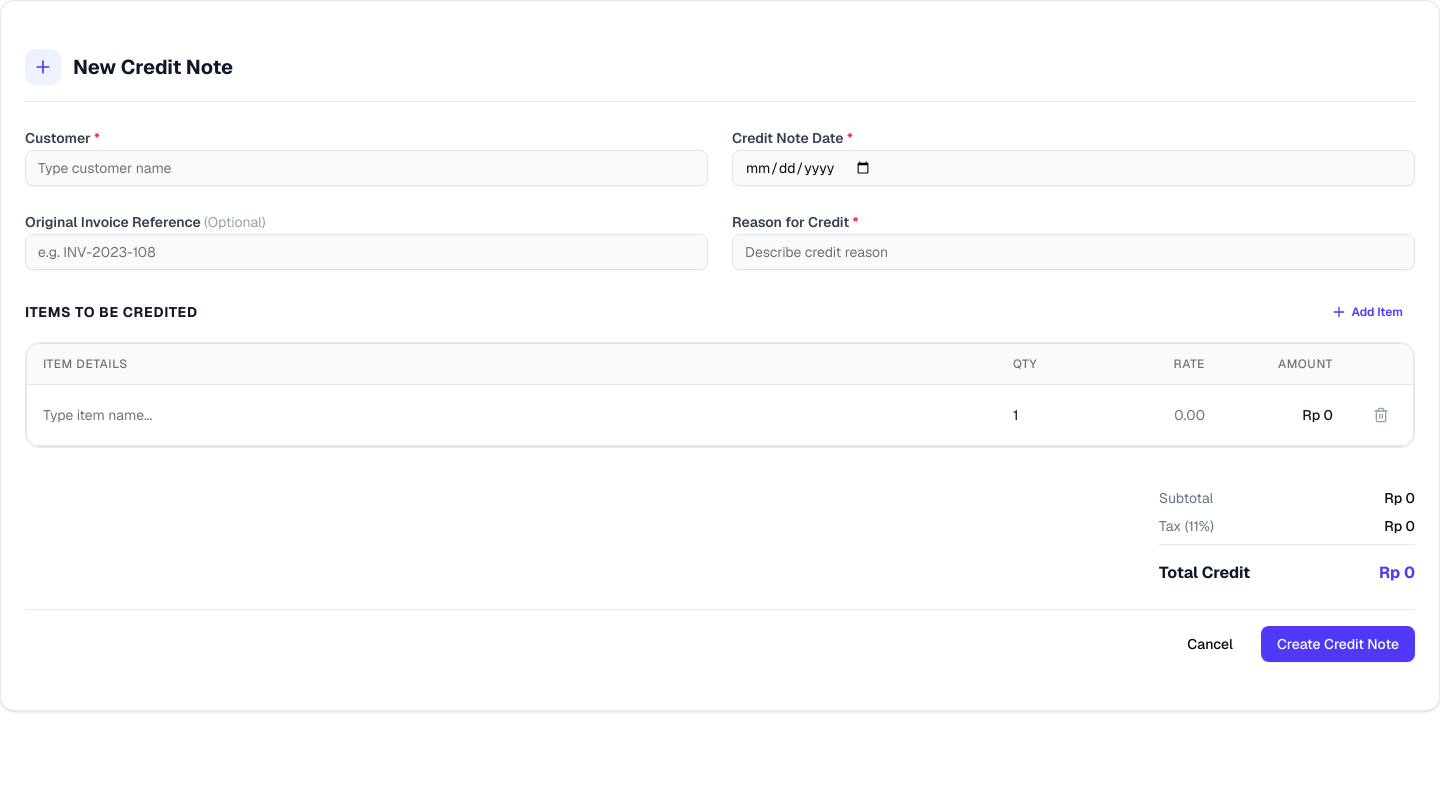
Test case: invoicing-ar create forms › renders credit note page form with source labels and add/remove item
The image size is (1440, 810).
expect the heading "New Credit Note" is shown: met, box x1=73 y1=53 x2=233 y2=81
expect the heading "Items to be Credited" is shown: met, box x1=25 y1=302 x2=198 y2=322
Click the button "Add Item".
click(1367, 312)  # box x1=1319 y1=294 x2=1415 y2=330
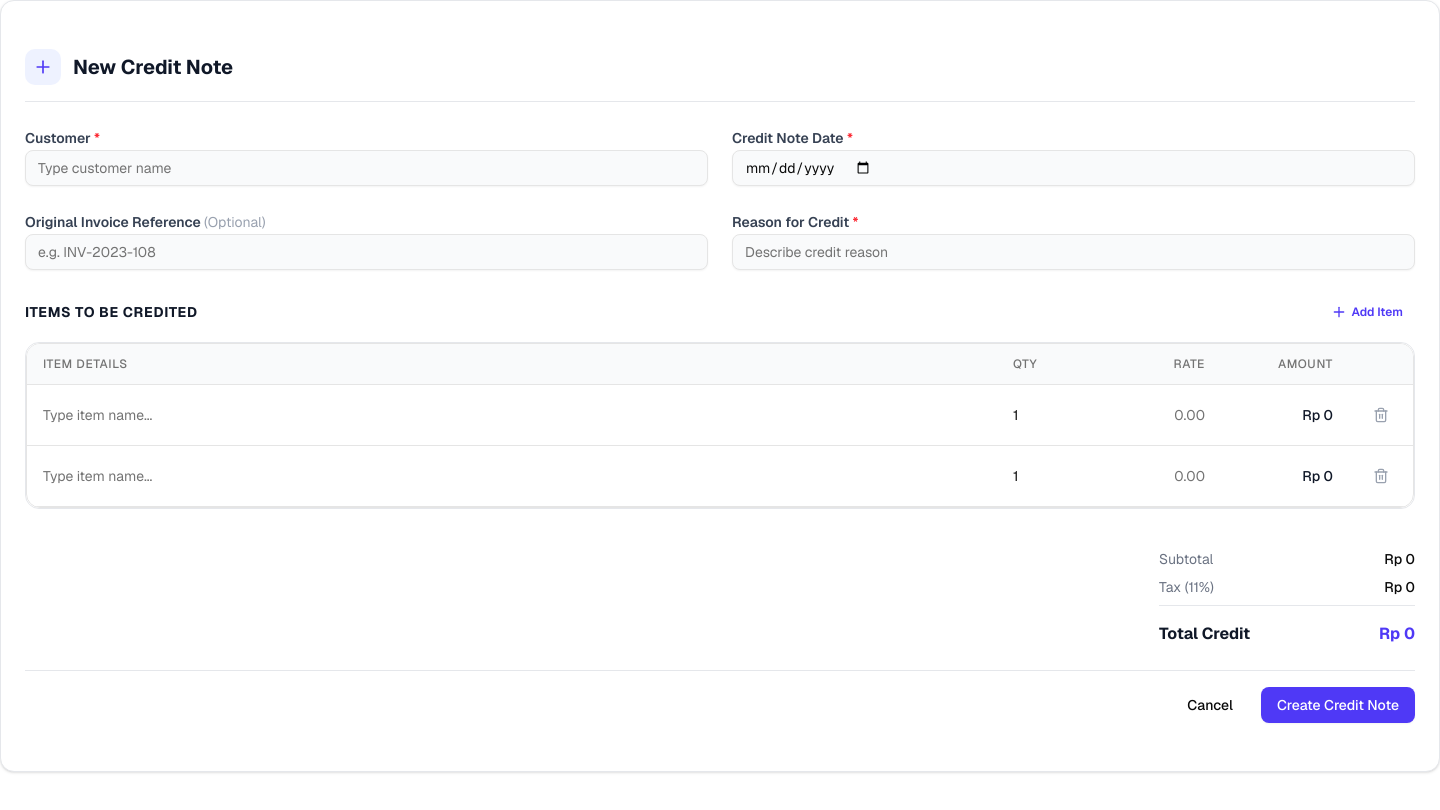
expect the number of buttons named "Remove credit item" is 2: met, box x1=1365 y1=399 x2=1397 y2=431; x1=1365 y1=460 x2=1397 y2=492
